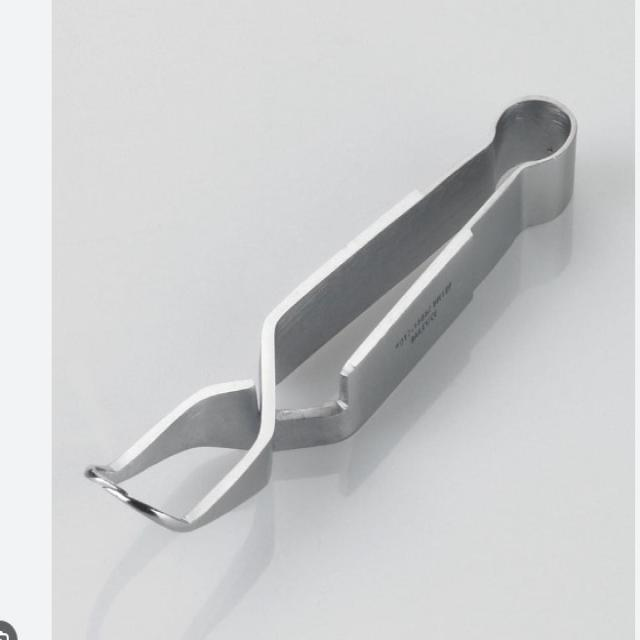Doyen Cross Action Towel Clamp: (83, 92, 582, 526)
